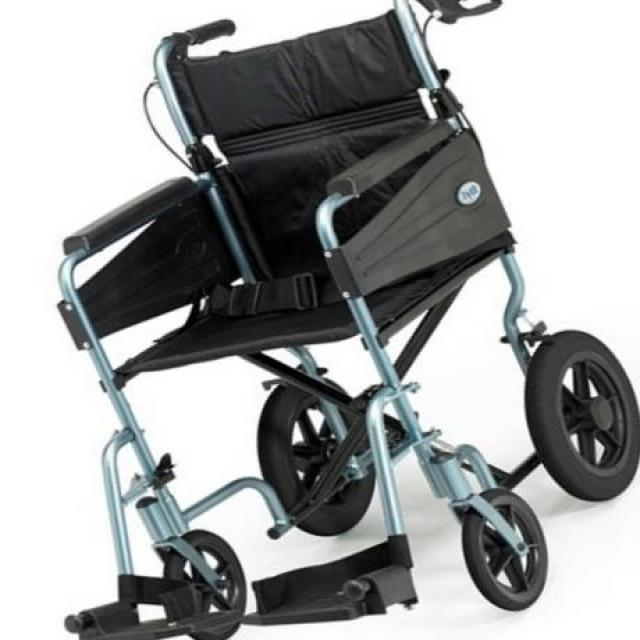wheelchair: (42, 0, 640, 640)
